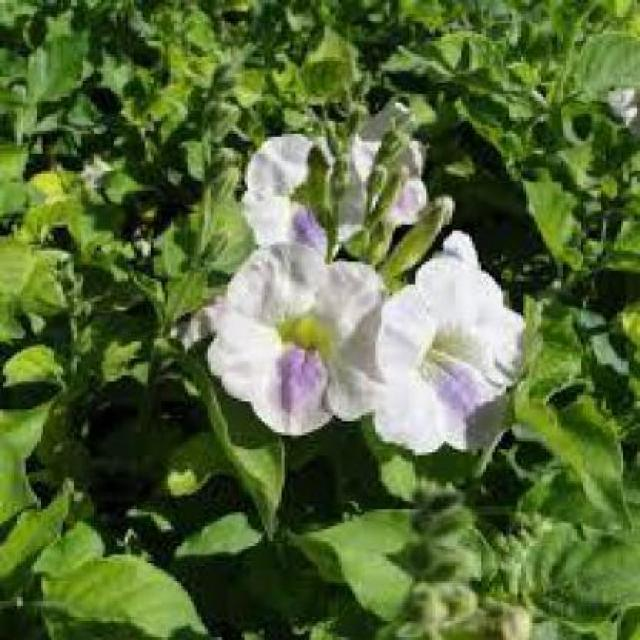flower: (198, 221, 399, 445), (355, 233, 530, 461)
